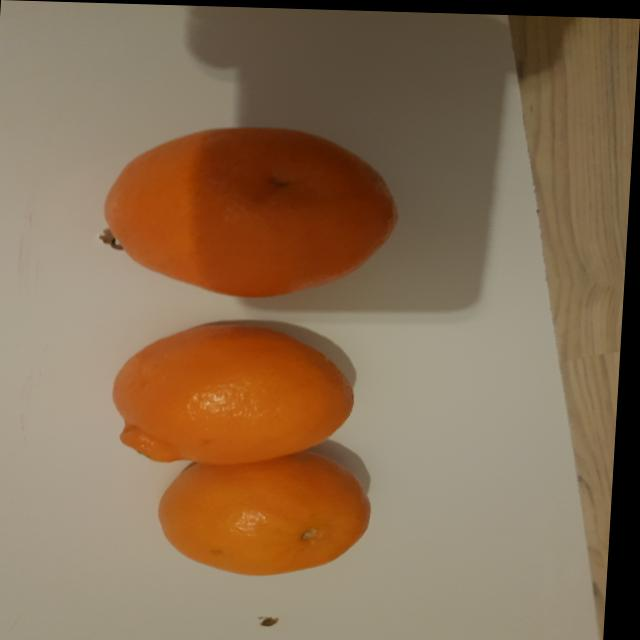Orange: (104, 125, 399, 296), (116, 324, 357, 463), (162, 449, 375, 574)
